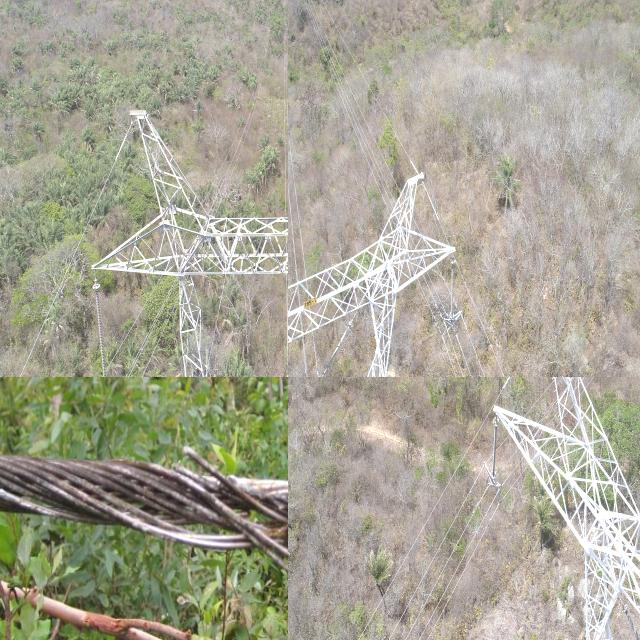杆塔: (92, 101, 288, 377), (288, 154, 461, 377), (495, 377, 640, 640)
正常电缆: (354, 377, 516, 640), (385, 460, 486, 640), (403, 486, 490, 640), (416, 504, 492, 640), (426, 506, 498, 640)
正常绝缘子: (90, 275, 111, 377), (319, 319, 354, 377), (489, 404, 500, 504), (448, 254, 458, 328)
电缆破损: (0, 421, 288, 571)
